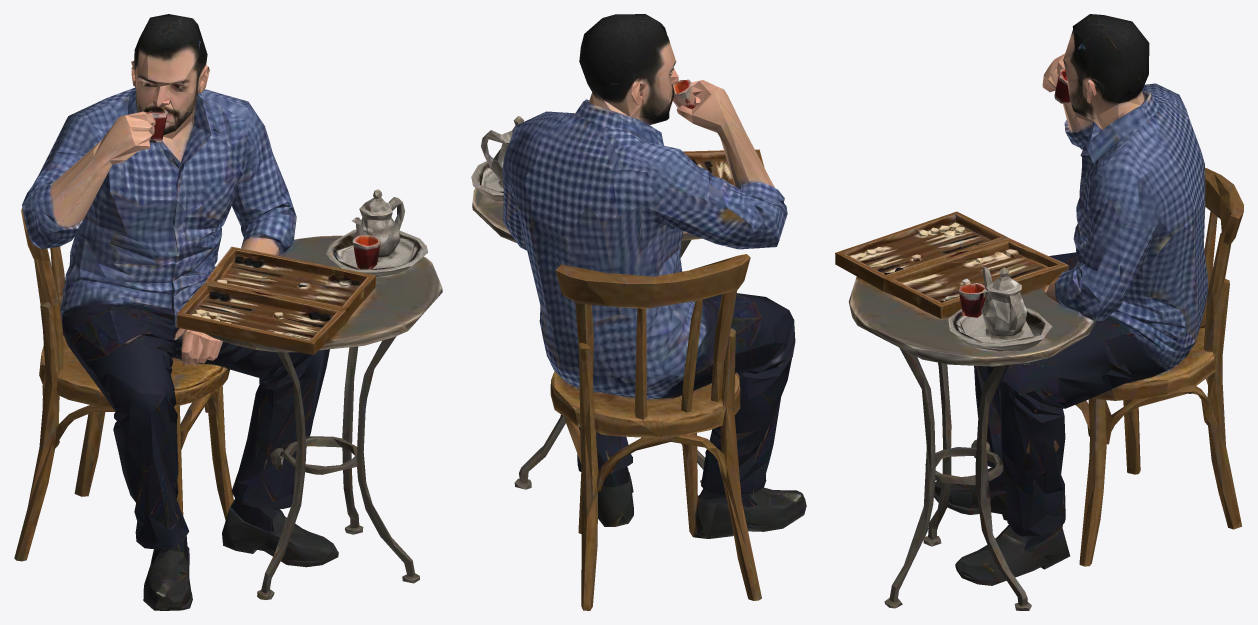
Rendered from ahwa2.glb.
3 renders of one model, left to right at view 1: azimuth 30°, elevation 25°; view 2: azimuth 150°, elevation 25°; view 3: azimuth 270°, elevation 25°, orthographic. The views are drawn at different scales.
Visible parts, largest first — view 1: output_unwrapped; view 2: output_unwrapped; view 3: output_unwrapped.
Boxes of the visible parts, box(x1,y1,x2,y2) form: output_unwrapped: box(14, 14, 442, 610); output_unwrapped: box(471, 14, 806, 610); output_unwrapped: box(835, 14, 1243, 610).
Bounding box in the file's own units: 1.31 × 1.9 × 1.35.
Materials: 1 (1 with a texture image).
